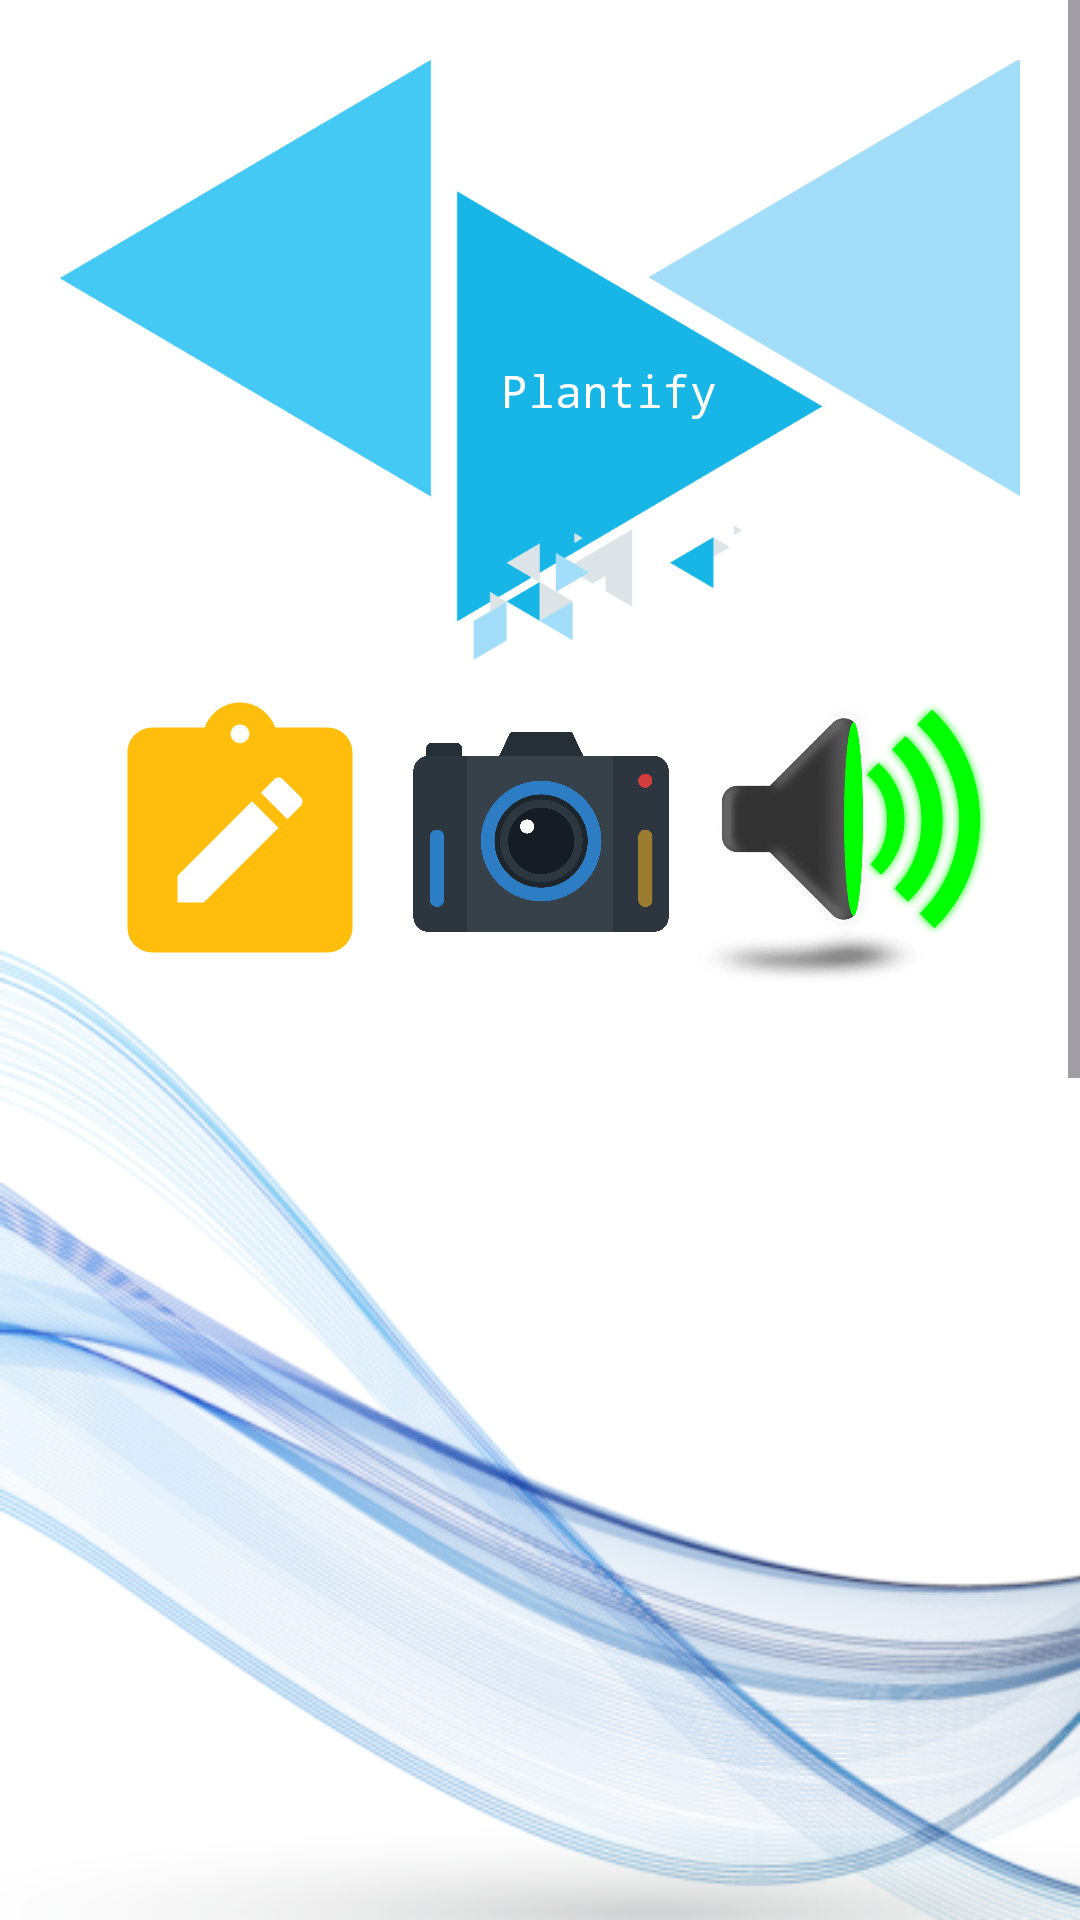

Where to tap for icons on this 1080w x 1920h app screen, as (x=x, y=y):
notice: (x=240, y=827)
sound: (x=853, y=841)
